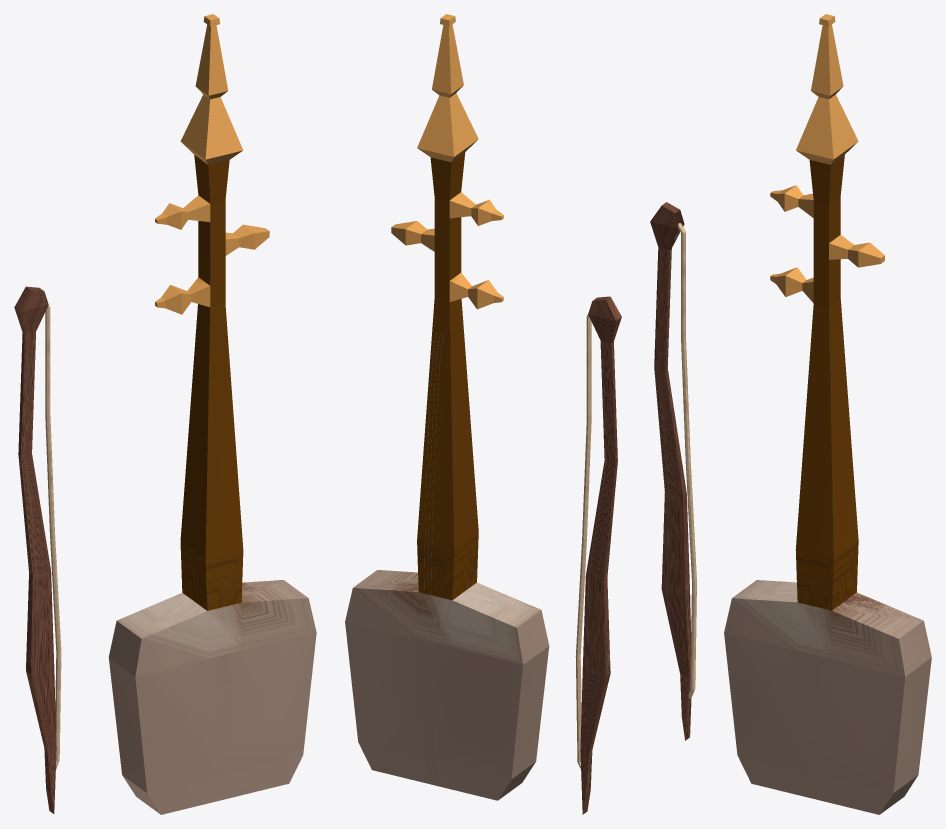
The model's file is Rebab.fbx.
3 views of the same model, side by side, from view 1: azimuth 30°, elevation 25°; view 2: azimuth 150°, elevation 25°; view 3: azimuth 330°, elevation 25° (orthographic).
Visible parts, largest first — view 1: Rebab, Cube, Cylinder; view 2: Rebab, Cube, Cylinder, String; view 3: Rebab, Cube, Cylinder.
Part boxes in pixels (left/top/right/bottom): Rebab: left=108, top=14, right=316, bottom=814; Cube: left=14, top=286, right=56, bottom=813; Cylinder: left=45, top=305, right=61, bottom=769; Rebab: left=345, top=14, right=549, bottom=800; Cube: left=580, top=296, right=621, bottom=814; Cylinder: left=575, top=314, right=591, bottom=768; String: left=423, top=333, right=443, bottom=782; Rebab: left=724, top=14, right=931, bottom=814; Cube: left=650, top=202, right=691, bottom=740; Cylinder: left=678, top=223, right=696, bottom=698.
Size of the model in its own units: 300 by 802 by 63.34.
Materials: 2 (2 with a texture image).
